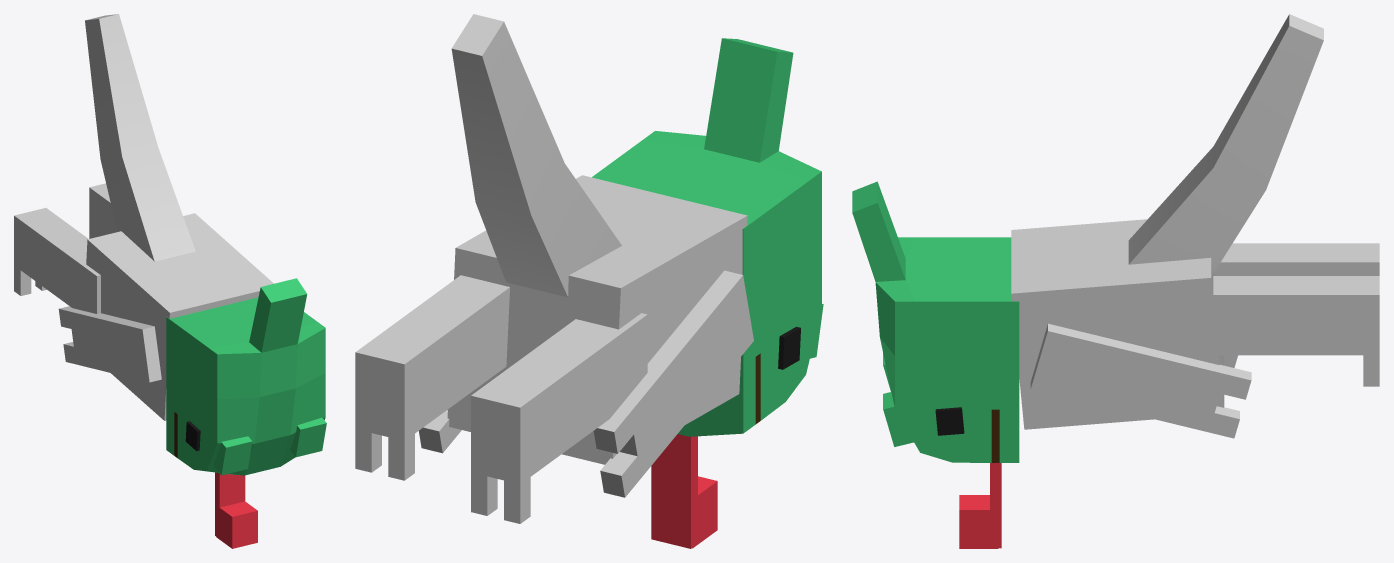
The model's file is Character_v3.FBX.
3 renders of one model, left to right at view 1: azimuth 30°, elevation 25°; view 2: azimuth 150°, elevation 25°; view 3: azimuth 270°, elevation 25°, orthographic. The views are drawn at different scales.
Parts seen in each view (by area): view 1: Box001, Box003; view 2: Box001, Box003; view 3: Box001, Box003.
Boxes of the visible parts, <box> form: Box001: <box>14,14,273,420</box>; Box003: <box>166,278,326,548</box>; Box001: <box>355,14,753,523</box>; Box003: <box>592,38,823,548</box>; Box001: <box>1011,14,1379,438</box>; Box003: <box>852,181,1019,548</box>.
Size of the model in its own units: 36.92 by 115 by 105.
